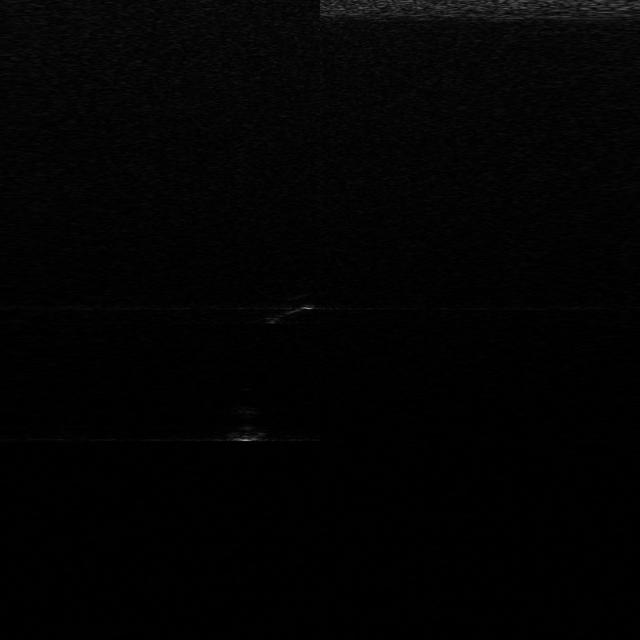ball: (216, 404, 274, 442)
tyre: (260, 292, 316, 322)
